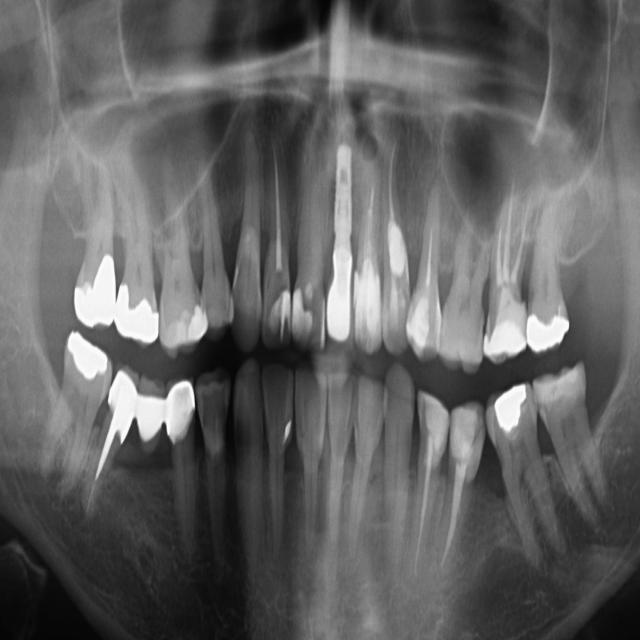dentin-curugu: (198, 376, 228, 438), (266, 309, 292, 360)
dolgu: (55, 328, 112, 396), (484, 385, 531, 441), (167, 308, 215, 350), (358, 272, 383, 351), (414, 393, 448, 445), (383, 216, 412, 275), (450, 403, 480, 457), (292, 290, 312, 343), (279, 412, 298, 452)
implant: (325, 124, 357, 345)
kanal-tedavisi: (398, 428, 444, 580), (445, 443, 485, 586), (258, 142, 296, 288), (486, 180, 532, 294), (90, 400, 132, 512), (414, 199, 448, 308), (356, 187, 382, 266), (383, 136, 403, 212)
kaplama: (64, 250, 122, 328), (95, 361, 145, 446), (481, 291, 528, 363), (114, 278, 162, 348), (520, 299, 580, 355), (160, 373, 198, 437)
kopru: (125, 383, 182, 448)
